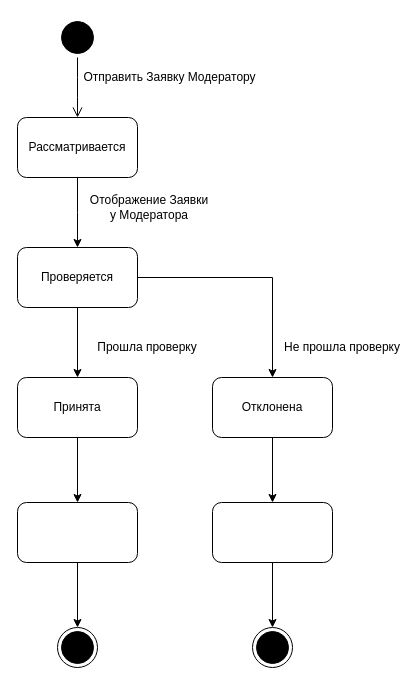
Some shapes in this 420 by 685 pixel diagram are drawn without their labels. The box of each missing label's shape, as (x1, y1, x2, y2) in pixels:
Доступна всем пользователя: (16, 502, 138, 562)
Удалена: (212, 502, 332, 562)
